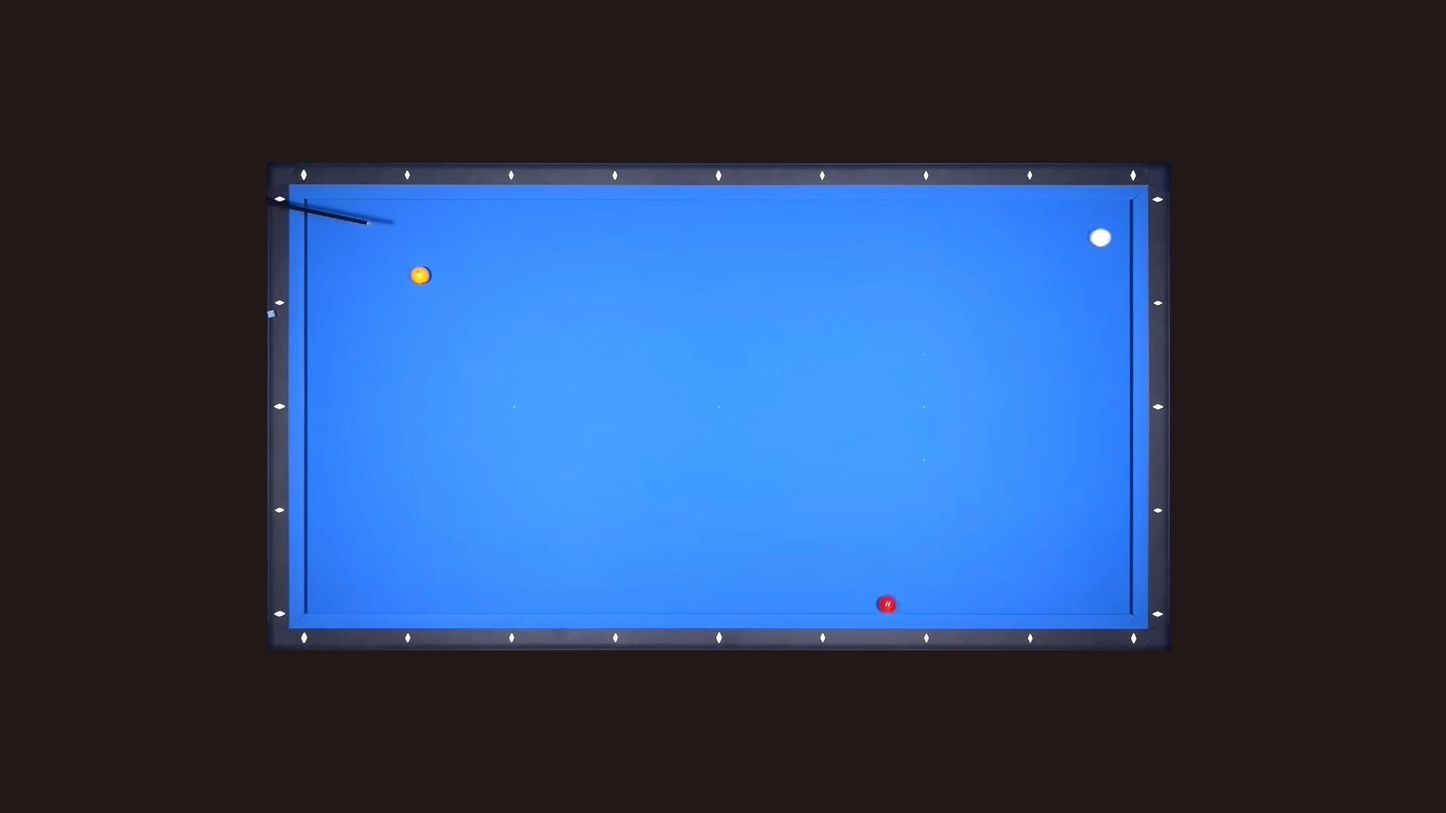-billiard-ball: (409, 265, 430, 285)
Red: (871, 599, 895, 617), (876, 595, 899, 613)
White: (1090, 228, 1117, 248)
Yellow: (406, 266, 432, 286)
